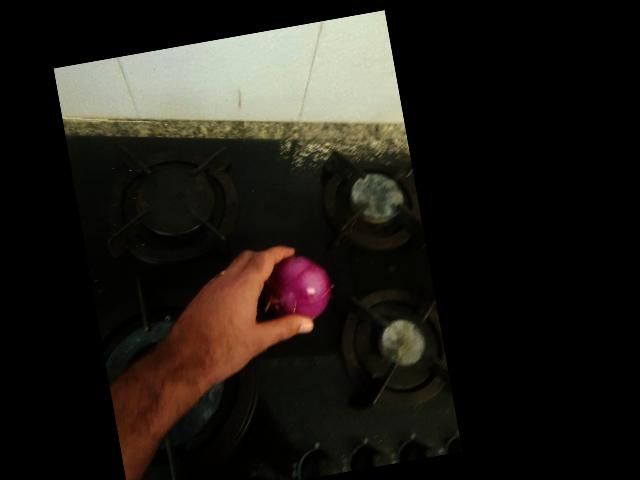onion: (260, 249, 340, 328)
